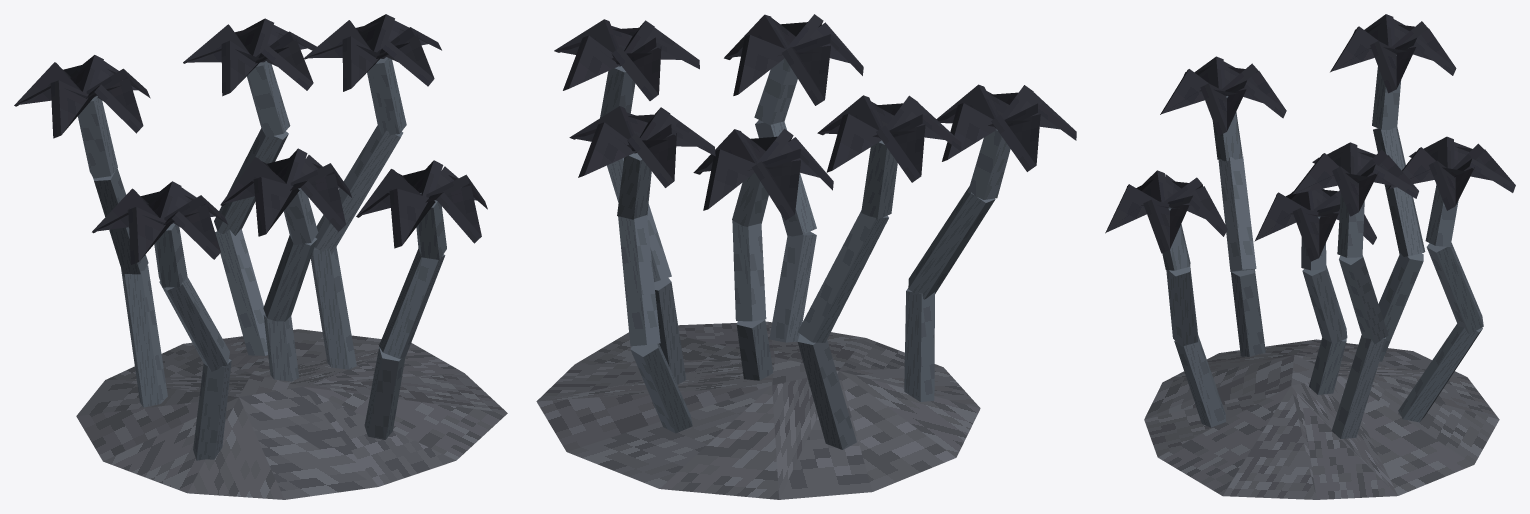
File: f_string_dimension_dead_flower.glb
3 views of the same model, side by side, from view 1: azimuth 30°, elevation 25°; view 2: azimuth 150°, elevation 25°; view 3: azimuth 270°, elevation 25° (orthographic). The views are drawn at different scales.
Parts seen in each view (by area): view 1: block_root-substrate, block_folded-petal (×30), block_segmented-plant-stem-1 (×6), block_segmented-plant-stem-2 (×6), block_segmented-plant-stem-3 (×6); view 2: block_root-substrate, block_folded-petal (×30), block_segmented-plant-stem-2 (×6), block_segmented-plant-stem-1 (×6), block_segmented-plant-stem-3 (×6); view 3: block_root-substrate, block_folded-petal (×27), block_segmented-plant-stem-2 (×6), block_segmented-plant-stem-1 (×6), block_segmented-plant-stem-3 (×6).
Boxes of the visible parts, bbox=[...] form: block_root-substrate: bbox=[76, 329, 507, 499]; block_folded-petal (×30): bbox=[14, 14, 487, 264]; block_segmented-plant-stem-1 (×6): bbox=[121, 228, 405, 460]; block_segmented-plant-stem-2 (×6): bbox=[93, 125, 445, 371]; block_segmented-plant-stem-3 (×6): bbox=[78, 57, 446, 287]; block_root-substrate: bbox=[536, 321, 980, 499]; block_folded-petal (×30): bbox=[554, 14, 1076, 220]; block_segmented-plant-stem-2 (×6): bbox=[607, 120, 995, 346]; block_segmented-plant-stem-1 (×6): bbox=[630, 231, 934, 449]; block_segmented-plant-stem-3 (×6): bbox=[600, 58, 1010, 226]; block_root-substrate: bbox=[1144, 339, 1499, 499]; block_folded-petal (×27): bbox=[1105, 14, 1515, 261]; block_segmented-plant-stem-2 (×6): bbox=[1166, 127, 1483, 347]; block_segmented-plant-stem-1 (×6): bbox=[1174, 253, 1482, 438]; block_segmented-plant-stem-3 (×6): bbox=[1162, 55, 1458, 270].
Bounding box in the file's own units: 0.6444 × 0.5391 × 0.6221.
Materials: 1 (1 with a texture image).
